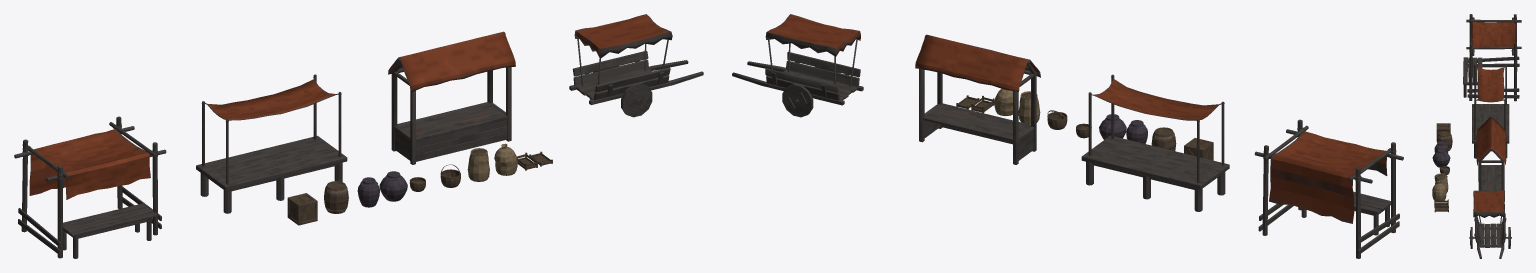
File: Market.fbx
The picture shows the model from 3 angles, left to right: view 1: azimuth 30°, elevation 25°; view 2: azimuth 150°, elevation 25°; view 3: azimuth 270°, elevation 25°; orthographic projection. The views are drawn at different scales.
Parts seen in each view (by area): view 1: Stall3, Stall1, Stall2, Wagon, Crate, Barrel, BagOpened, Jar2, BagClosed, Jar1; view 2: Stall3, Stall1, Stall2, Wagon, Jar2, Barrel, Crate, BagOpened, BagClosed, Jar1; view 3: Stall3, Stall2, Wagon, Stall1, Jar2, BagClosed, Barrel, Crate, BagOpened, Jar1, Container2, Basket2 (+1 smaller).
Boxes of the visible parts, <box> form: Stall3: <box>14,116,166,258</box>; Stall1: <box>388,31,515,164</box>; Stall2: <box>196,74,347,213</box>; Wagon: <box>569,14,703,117</box>; Crate: <box>287,193,317,225</box>; Barrel: <box>324,181,348,213</box>; BagOpened: <box>467,148,489,181</box>; Jar2: <box>379,171,407,201</box>; BagClosed: <box>494,143,517,175</box>; Jar1: <box>357,177,379,207</box>; Stall3: <box>1254,119,1403,258</box>; Stall1: <box>915,34,1040,164</box>; Stall2: <box>1081,74,1229,211</box>; Wagon: <box>732,14,863,117</box>; Jar2: <box>1099,114,1126,139</box>; Barrel: <box>1151,127,1176,150</box>; Crate: <box>1184,138,1213,160</box>; BagOpened: <box>1018,91,1040,124</box>; BagClosed: <box>994,89,1012,115</box>; Jar1: <box>1126,120,1147,143</box>; Stall3: <box>1463,14,1521,101</box>; Stall2: <box>1472,64,1509,158</box>; Wagon: <box>1469,190,1511,258</box>; Stall1: <box>1476,116,1506,192</box>; Jar2: <box>1432,149,1450,167</box>; BagClosed: <box>1432,181,1446,200</box>; Barrel: <box>1437,131,1452,150</box>; Crate: <box>1436,123,1450,141</box>; BagOpened: <box>1435,173,1448,193</box>; Jar1: <box>1434,141,1448,152</box>; Container2: <box>1434,199,1448,207</box>; Basket2: <box>1439,166,1449,174</box>.
Size of the model in its own units: 16.79 by 2.46 by 3.13.
